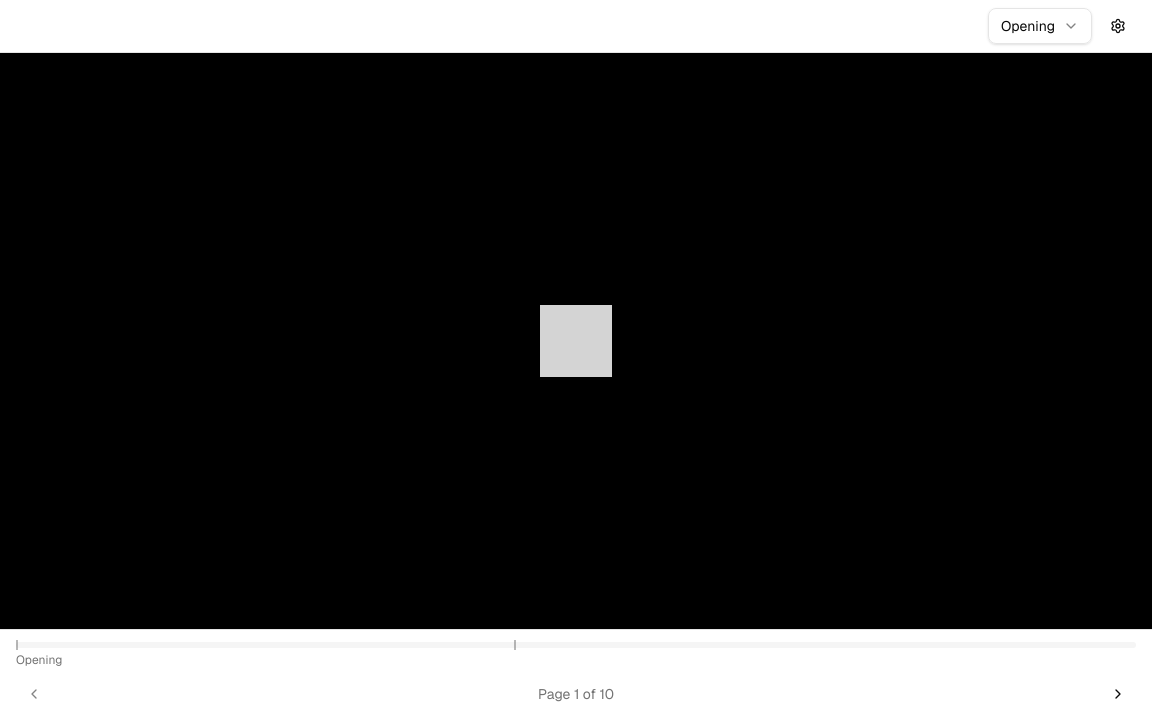
it: PageReader chapter menu › shows the current chapter and jumps to the one chosen
The image size is (1152, 720).
Click the dropdown named "Jump to chapter": (1040, 26) [988,8,1092,44]
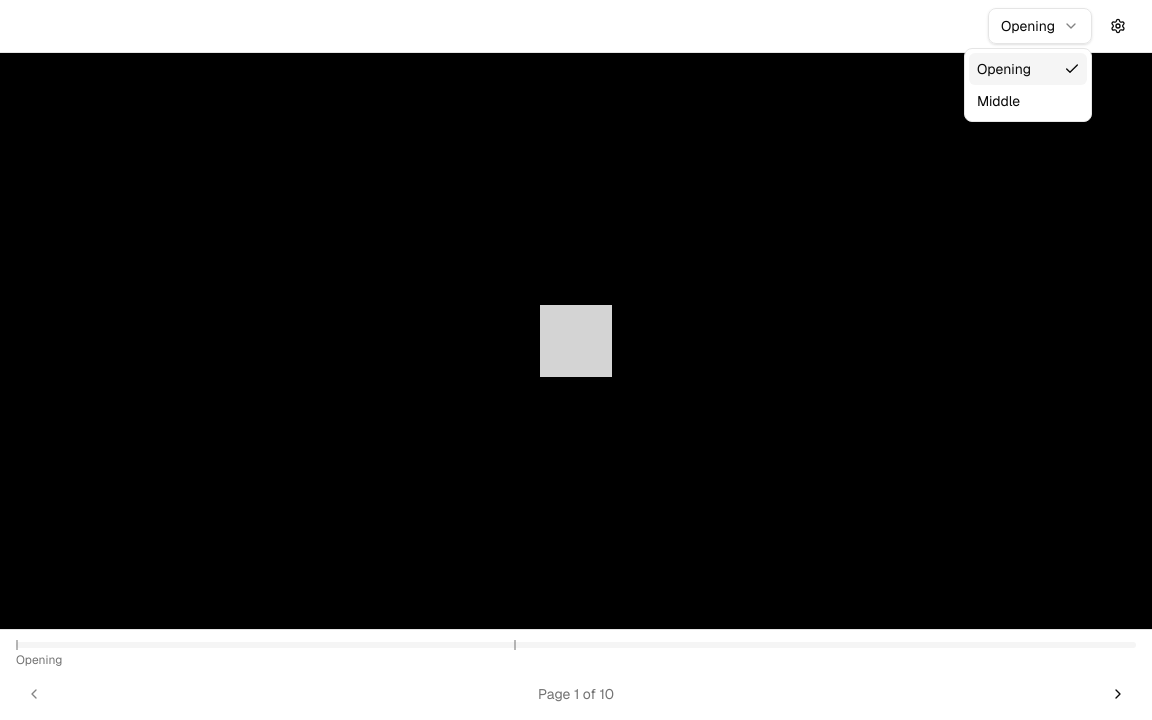
Click the option "Middle": (999, 101) [977,92,1020,110]
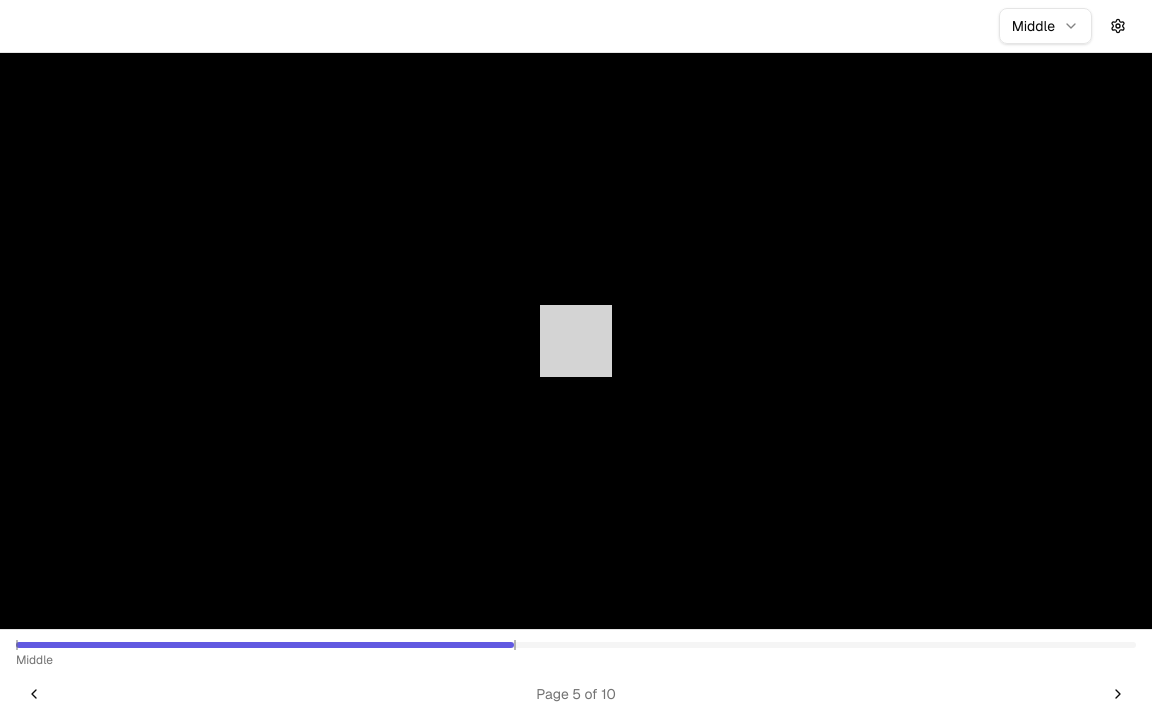
Result: the text "Page 5 of 10" is shown at [536,684,616,704]
Result: the dropdown named "Jump to chapter" reads "Middle" at [999,8,1092,44]
